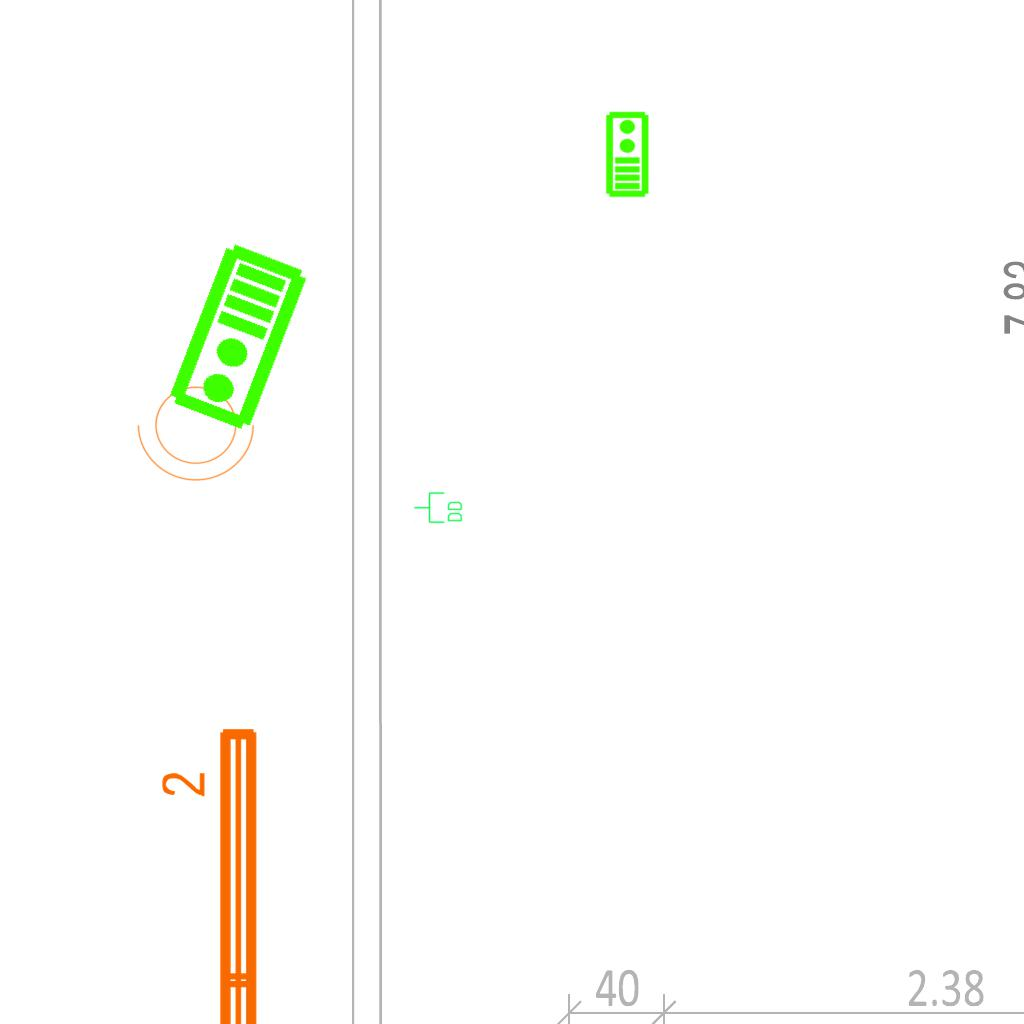Ambulanz_Pendelleuchte_LED: (157, 720, 269, 1024)
Datenanschluss_zweifach: (413, 491, 464, 525)
Gegensprechanlage_mit_Video: (163, 238, 316, 438), (603, 110, 650, 198)
Scheinwerfer_fuer_Alarmbeleuchtung: (133, 374, 265, 486)
